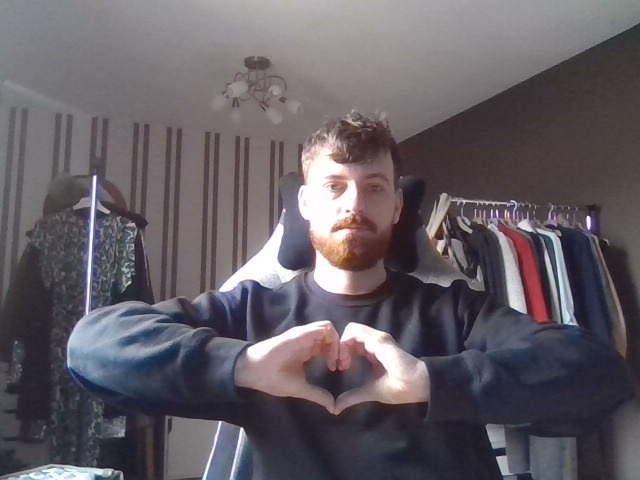Love: (231, 307, 442, 435)
